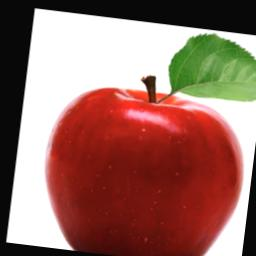Apple Ripe: (29, 21, 256, 256)
